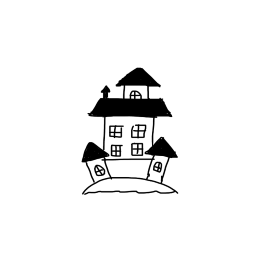chimney: (96, 80, 113, 103)
closed_window: (107, 122, 126, 140), (130, 123, 149, 140), (109, 143, 126, 159), (130, 141, 146, 157), (92, 163, 107, 178), (152, 159, 163, 174)
shaded_roof: (86, 96, 178, 120), (114, 61, 167, 90)
small_house: (1, 1, 260, 260)
wall: (101, 113, 158, 161)
